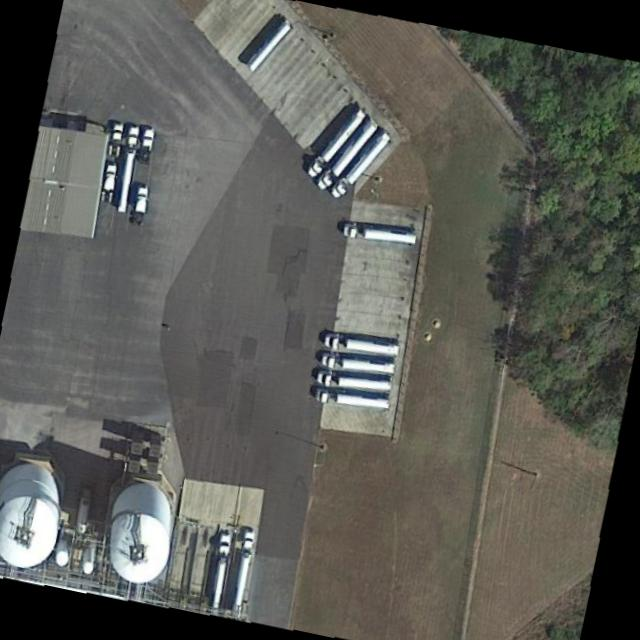large-vehicle: (327, 130, 391, 201), (317, 119, 376, 192), (307, 107, 366, 178), (229, 531, 256, 618), (114, 125, 139, 214), (324, 333, 398, 359), (208, 532, 232, 611), (314, 387, 389, 411), (343, 222, 416, 246), (316, 370, 392, 393), (320, 353, 395, 376), (138, 129, 156, 167), (107, 122, 123, 158), (102, 163, 116, 204)
storage-tank: (95, 476, 183, 590), (0, 458, 69, 574)
